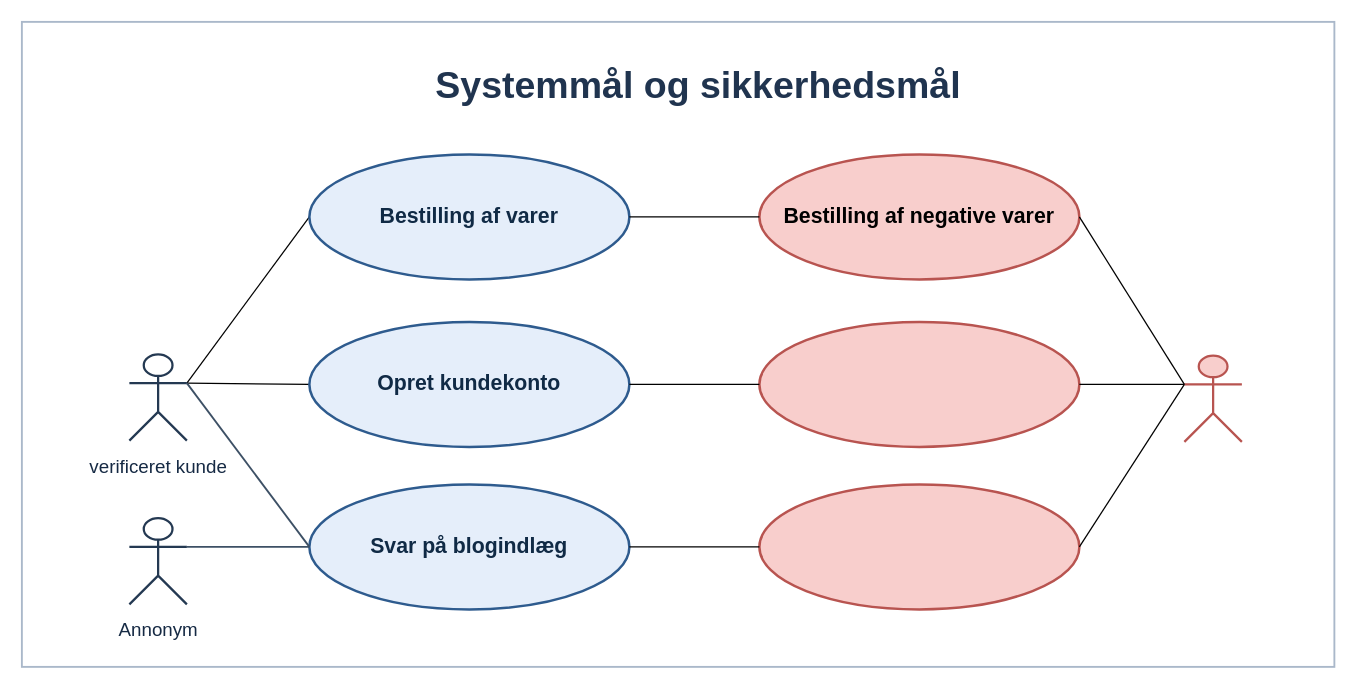
The diagram is 1358 pixels wide and 690 high, and some of its shapes have lost their labels. The shapes that lost their labels are listed below. From the top down, each one's centre as x and y in pixels, then its label:
At (x=919, y=384): "Misburg af adgang til anden kundes konto".
At (x=1212, y=398): "IT kriminel".
At (x=919, y=546): "Svar på blogindlæg med skadeligt indhold".
